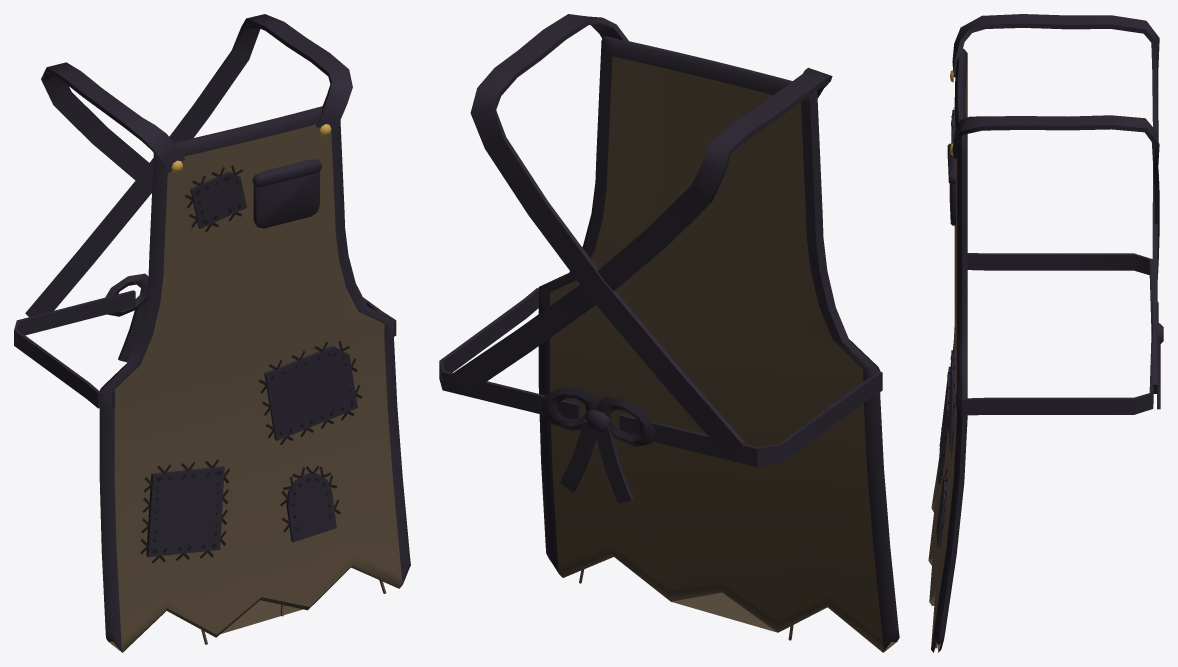
File: Cosmetic_Apron_Patched.fbx
3 views of the same model, side by side, from view 1: azimuth 30°, elevation 25°; view 2: azimuth 150°, elevation 25°; view 3: azimuth 270°, elevation 25° (orthographic). The views are drawn at different scales.
Visible parts, largest first — view 1: Apron, Trim, Stitches; view 2: Apron, Trim; view 3: Trim, Apron, Stitches.
Boxes of the visible parts, box(x1,y1,x2,y2) form: Apron: box(108, 124, 402, 652); Trim: box(14, 14, 410, 652); Stitches: box(140, 165, 362, 563); Apron: box(549, 56, 896, 652); Trim: box(439, 14, 899, 652); Trim: box(931, 14, 1163, 652); Apron: box(928, 66, 967, 652); Stitches: box(937, 107, 954, 538).
Bounding box in the file's own units: 205 × 333 × 136.
